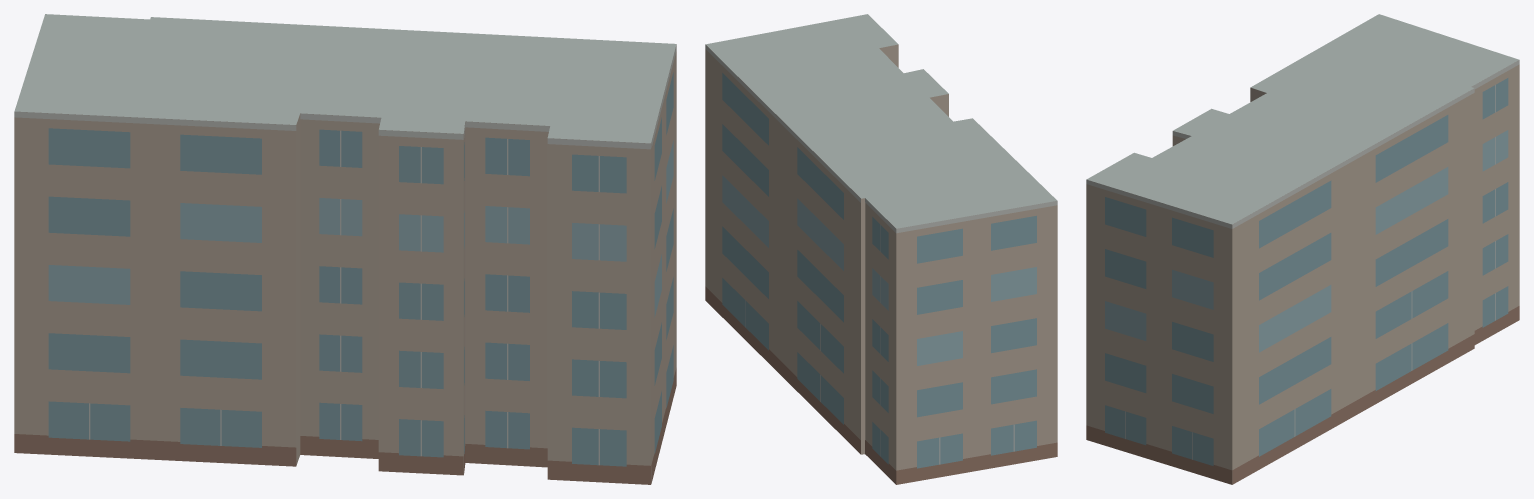
Rendered from survey-upis-32542488.glb.
3 renders of one model, left to right at view 1: azimuth 30°, elevation 25°; view 2: azimuth 150°, elevation 25°; view 3: azimuth 270°, elevation 25°, orthographic. The views are drawn at different scales.
Parts seen in each view (by area): view 1: survey-upis-32542488.tmp; view 2: survey-upis-32542488.tmp; view 3: survey-upis-32542488.tmp.
Part boxes in pixels (x1,y1,x2,y2): survey-upis-32542488.tmp: [14, 14, 676, 484]; survey-upis-32542488.tmp: [705, 14, 1057, 484]; survey-upis-32542488.tmp: [1086, 14, 1519, 484].
Bounding box in the file's own units: 24.29 × 14 × 21.12.
